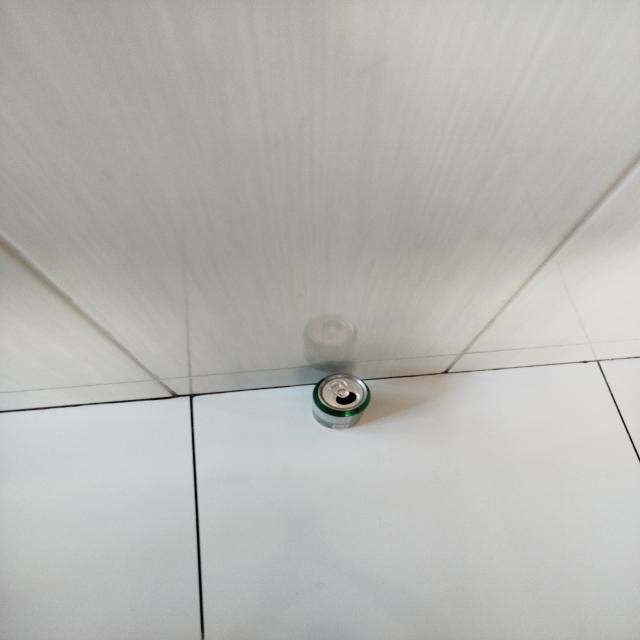Guarana: (308, 372, 372, 429)
